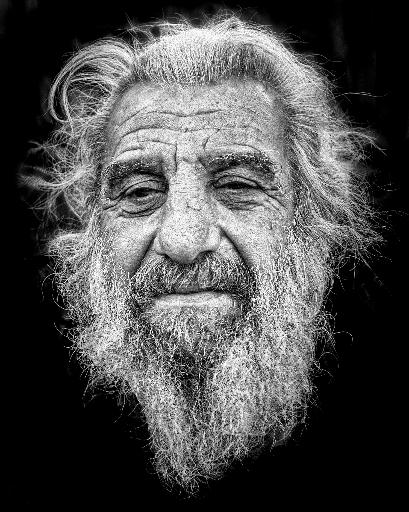left_eye: (210, 178, 271, 196)
left_lip_corner: (215, 282, 240, 302)
right_eye: (121, 184, 169, 203)
right_lip_corner: (144, 284, 172, 306)
